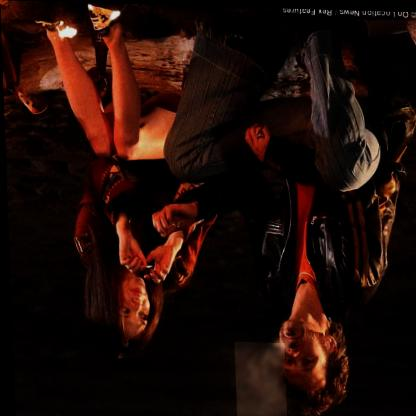smoke: (232, 340, 284, 416)
